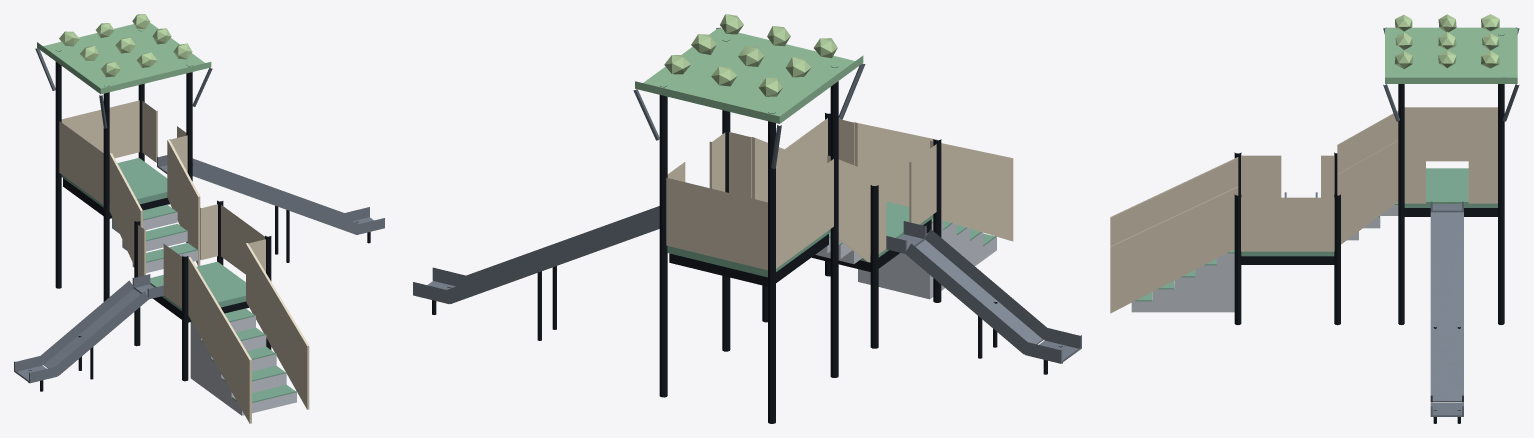
The picture shows the model from 3 angles, left to right: view 1: azimuth 30°, elevation 25°; view 2: azimuth 150°, elevation 25°; view 3: azimuth 270°, elevation 25°; orthographic projection. The views are drawn at different scales.
Parts seen in each view (by area): view 1: Stair_Cheeks, Guard_Panels, Slide_Chute, Posts, Canopy, Stair_Cast, Decks, Treads_Rubber, Canopy_Foliage, Deck_Frame, Slide_Legs, Tree_Forks; view 2: Guard_Panels, Stair_Cheeks, Slide_Chute, Posts, Canopy, Stair_Cast, Canopy_Foliage, Deck_Frame, Decks, Slide_Legs, Tree_Forks; view 3: Stair_Cheeks, Guard_Panels, Slide_Chute, Canopy, Posts, Stair_Cast, Decks, Canopy_Foliage, Deck_Frame, Tree_Forks.
Part boxes in pixels (x1,y1,x2,y2): Stair_Cheeks: (109, 139, 309, 423); Guard_Panels: (59, 100, 265, 308); Slide_Chute: (14, 155, 384, 383); Posts: (55, 30, 271, 381); Canopy: (37, 22, 211, 94); Stair_Cast: (112, 212, 296, 415); Decks: (61, 158, 245, 310); Treads_Rubber: (143, 204, 296, 402); Canopy_Foliage: (59, 14, 192, 77); Deck_Frame: (63, 178, 248, 322); Slide_Legs: (28, 206, 370, 391); Tree_Forks: (35, 48, 212, 128); Guard_Panels: (666, 118, 936, 270); Stair_Cheeks: (752, 122, 1013, 262); Slide_Chute: (413, 206, 1081, 363); Posts: (659, 40, 941, 423); Canopy: (635, 27, 863, 123); Stair_Cast: (815, 220, 996, 299); Canopy_Foliage: (664, 14, 837, 96); Deck_Frame: (669, 219, 931, 286); Decks: (667, 205, 933, 277); Slide_Legs: (432, 266, 1062, 374); Tree_Forks: (633, 27, 865, 168); Stair_Cheeks: (1110, 111, 1398, 313); Guard_Panels: (1241, 107, 1497, 251); Slide_Chute: (1284, 192, 1463, 416); Canopy: (1385, 27, 1517, 83); Posts: (1234, 34, 1504, 325); Stair_Cast: (1131, 205, 1398, 312); Decks: (1241, 168, 1497, 256); Canopy_Foliage: (1395, 14, 1499, 68); Deck_Frame: (1241, 208, 1497, 264); Tree_Forks: (1383, 27, 1519, 121).
Size of what is drawn, in the model's own units: 7.69 by 4.46 by 6.16.
8 materials, 4 textured.
